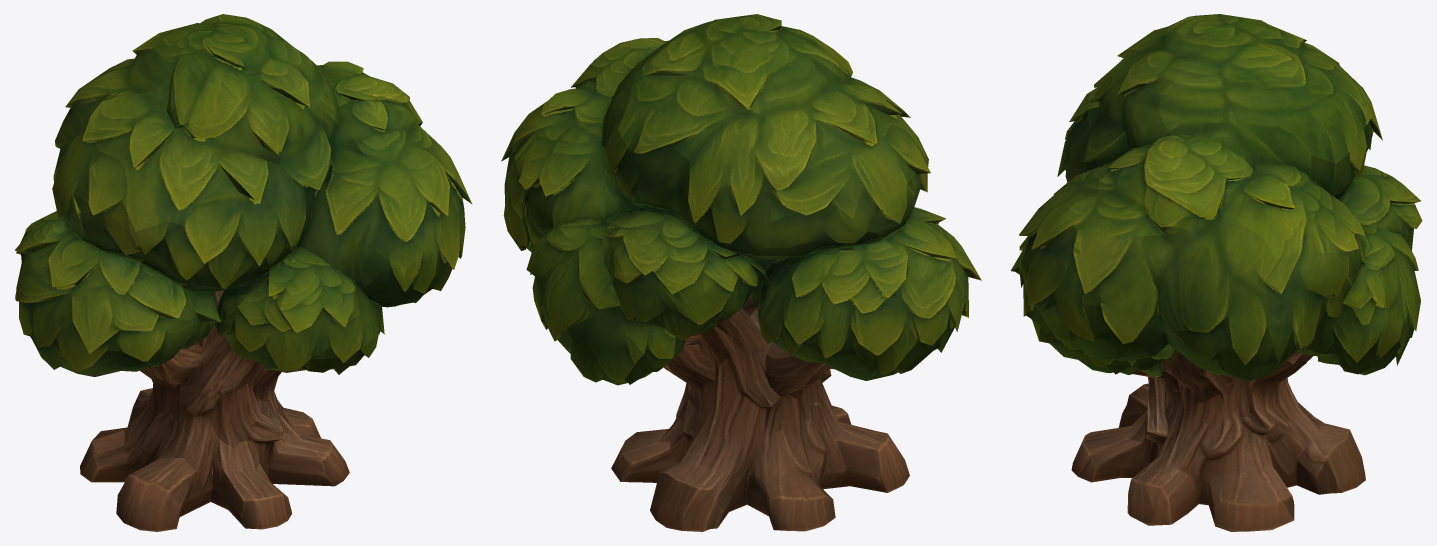
Rendered from tree_a.glb.
3 renders of one model, left to right at view 1: azimuth 30°, elevation 25°; view 2: azimuth 150°, elevation 25°; view 3: azimuth 270°, elevation 25°, orthographic. The views are drawn at different scales.
Visible parts, largest first — view 1: low; view 2: low; view 3: low.
Part boxes in pixels (box(x1,y1,x2,y2)): low: box(14, 14, 471, 531); low: box(501, 14, 981, 531); low: box(1011, 14, 1422, 531).
Size of the model in its own units: 0.9774 by 0.9979 by 0.8221.
1 material, 1 textured.
